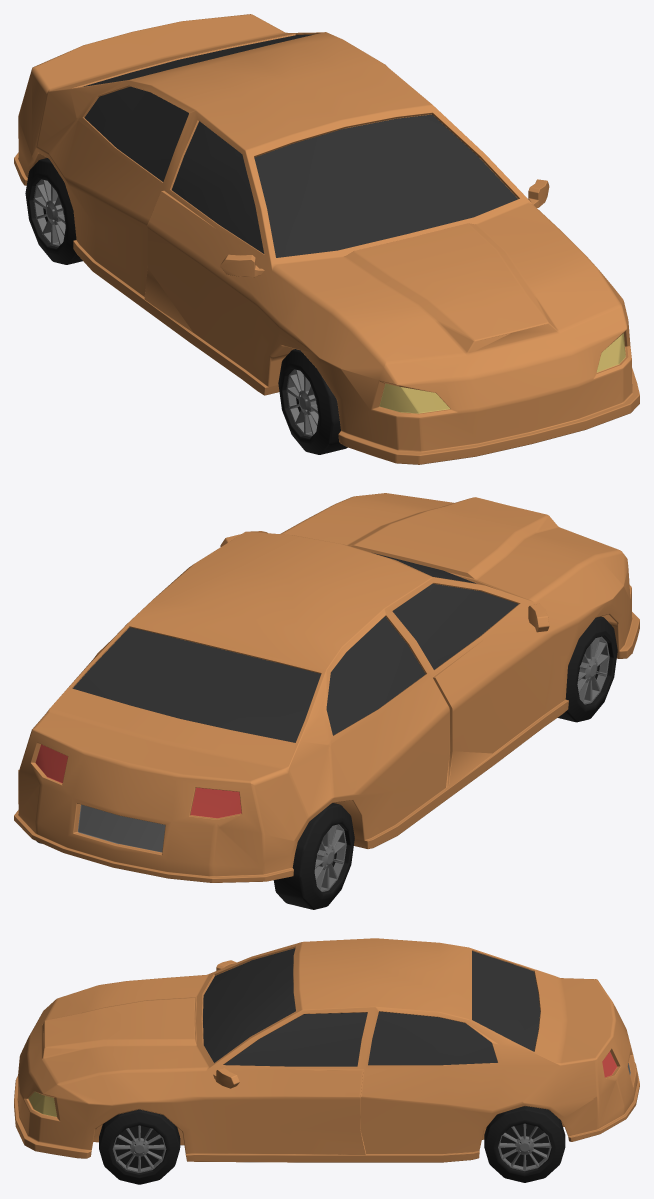
The model's file is muscle.glb.
The picture shows the model from 3 angles, top to bottom: view 1: azimuth 30°, elevation 25°; view 2: azimuth 150°, elevation 25°; view 3: azimuth 270°, elevation 25°; orthographic projection. The views are drawn at different scales.
Visible parts, largest first — view 1: SportsCar_Cube.005, SportsCar_FrontRightWheel_Cylinder.014, SportsCar_BackWheels_Cylinder.004; view 2: SportsCar_Cube.005, SportsCar_BackWheels_Cylinder.004, SportsCar_FrontRightWheel_Cylinder.014; view 3: SportsCar_Cube.005, SportsCar_BackWheels_Cylinder.004, SportsCar_FrontLeftWheel_Cylinder.013.
Part boxes in pixels (x1,y1,x2,y2): SportsCar_Cube.005: (14,14,639,464); SportsCar_FrontRightWheel_Cylinder.014: (278,349,347,454); SportsCar_BackWheels_Cylinder.004: (25,158,82,264); SportsCar_Cube.005: (14,493,639,882); SportsCar_BackWheels_Cylinder.004: (36,803,354,909); SportsCar_FrontRightWheel_Cylinder.014: (558,616,617,722); SportsCar_Cube.005: (14,938,639,1162); SportsCar_BackWheels_Cylinder.004: (484,1106,565,1182); SportsCar_FrontLeftWheel_Cylinder.013: (99,1109,180,1184).
Size of the model in its own units: 1.8 by 1.15 by 3.97.
